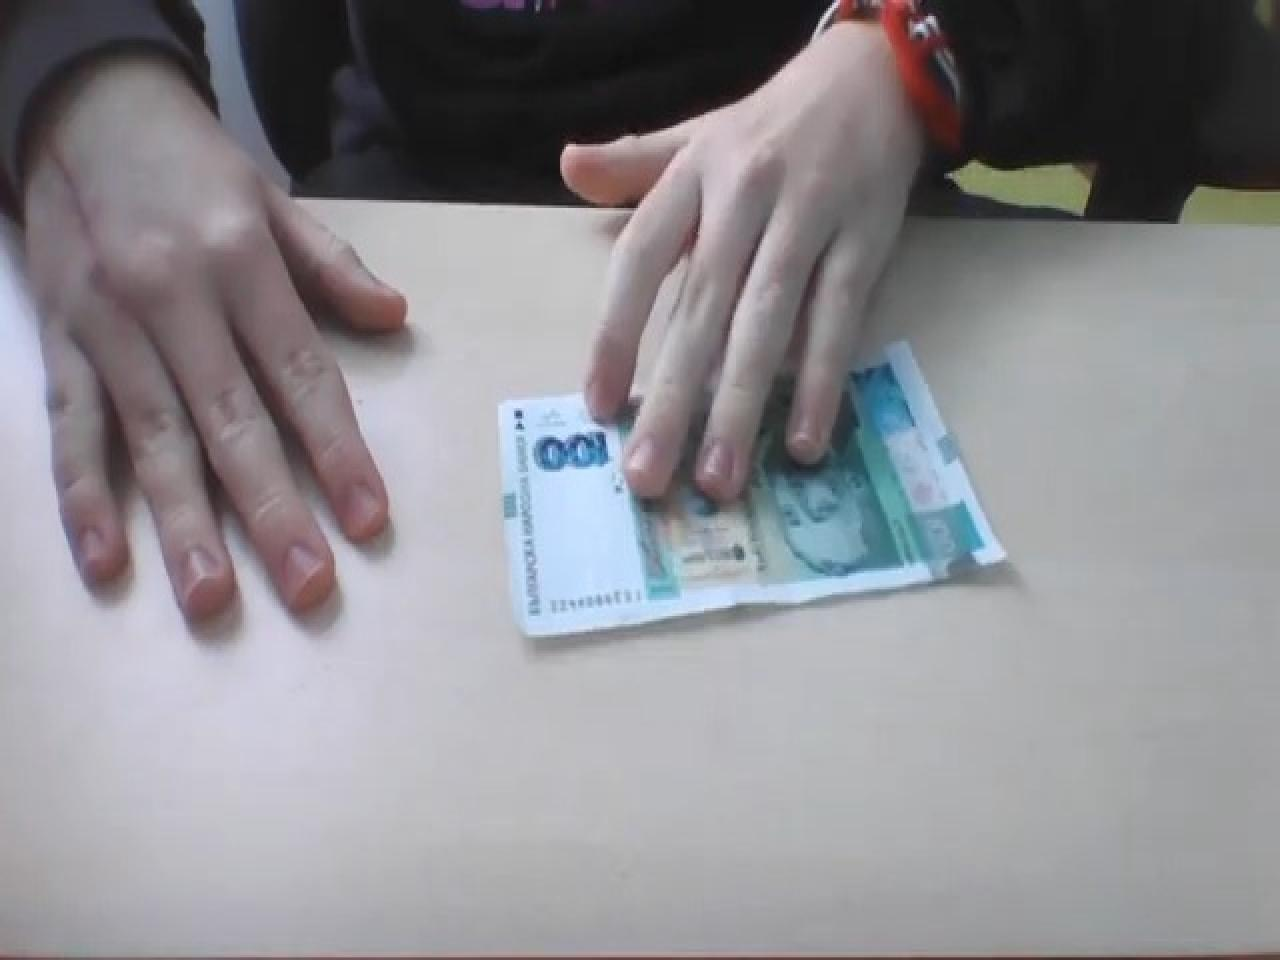100leva: (494, 336, 1006, 640), (532, 427, 610, 472)
